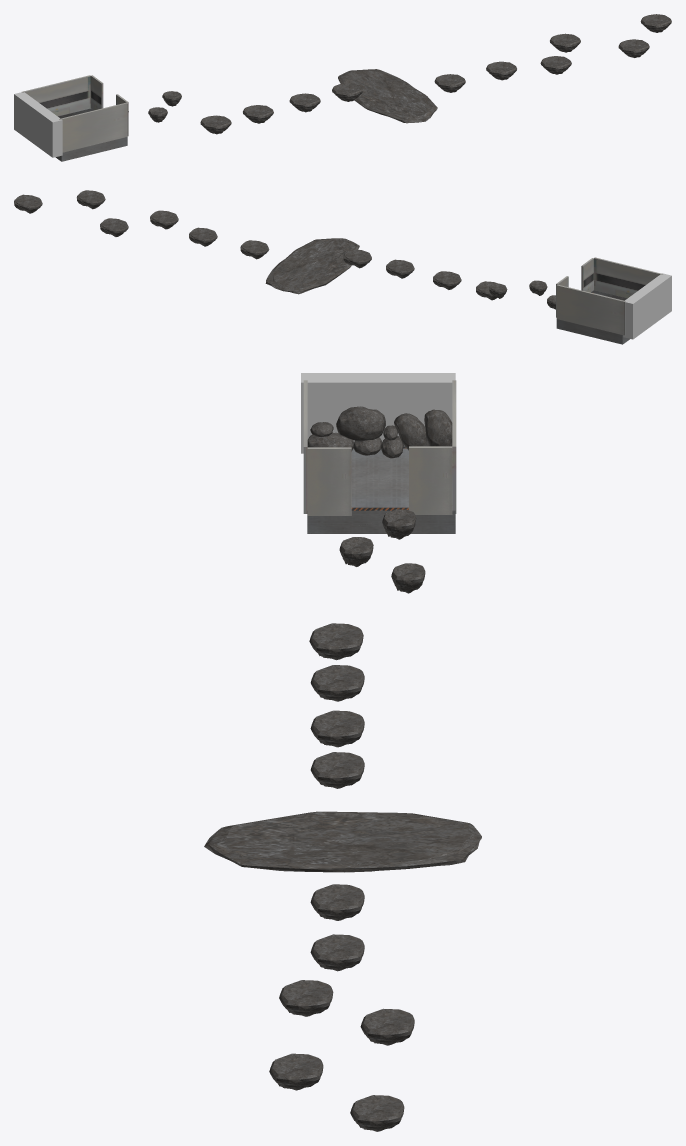
File: 3d plat.fbx
The picture shows the model from 3 angles, top to bottom: view 1: azimuth 30°, elevation 25°; view 2: azimuth 150°, elevation 25°; view 3: azimuth 270°, elevation 25°; orthographic projection. The views are drawn at different scales.
Parts seen in each view (by area): view 1: pasted__polySurface35, pCube15, pCube11, pCube16, pCube10, pasted__polySurface36, pasted__polySurface41, pasted__polySurface31, pasted__polySurface33, pasted__polySurface34, pasted__polySurface37, pasted__polySurface40 (+4 smaller); view 2: pasted__polySurface35, pCube16, pCube11, pCube15, pCube10, pasted__polySurface36, pasted__polySurface40, pasted__polySurface34, pasted__polySurface39, pasted__polySurface38, pasted__polySurface32, pasted__polySurface33 (+4 smaller); view 3: pasted__polySurface35, pCube11, pCube10, pCube17, pCube18, pasted__polySurface34, pasted__polySurface40, pasted__polySurface36, pasted__polySurface37, pasted__polySurface31, pasted__polySurface32, pasted__polySurface33 (+4 smaller).
Boxes of the visible parts, x1=… form: pasted__polySurface35: x1=338, y1=69, x2=437, y2=123; pCube15: x1=59, y1=102, x2=128, y2=152; pCube11: x1=14, y1=92, x2=62, y2=157; pCube16: x1=22, y1=75, x2=90, y2=115; pCube10: x1=55, y1=108, x2=127, y2=161; pasted__polySurface36: x1=434, y1=74, x2=465, y2=92; pasted__polySurface41: x1=640, y1=14, x2=671, y2=32; pasted__polySurface31: x1=200, y1=115, x2=231, y2=134; pasted__polySurface33: x1=289, y1=93, x2=320, y2=112; pasted__polySurface34: x1=332, y1=83, x2=362, y2=101; pasted__polySurface37: x1=486, y1=61, x2=516, y2=80; pasted__polySurface40: x1=618, y1=39, x2=649, y2=57; pasted__polySurface35: x1=265, y1=238, x2=359, y2=294; pCube16: x1=556, y1=284, x2=625, y2=335; pCube11: x1=623, y1=273, x2=671, y2=339; pCube15: x1=594, y1=257, x2=662, y2=298; pCube10: x1=556, y1=290, x2=629, y2=344; pasted__polySurface36: x1=240, y1=240, x2=269, y2=259; pasted__polySurface40: x1=76, y1=190, x2=105, y2=209; pasted__polySurface34: x1=343, y1=249, x2=371, y2=268; pasted__polySurface39: x1=100, y1=218, x2=128, y2=236; pasted__polySurface38: x1=150, y1=210, x2=178, y2=229; pasted__polySurface32: x1=433, y1=271, x2=461, y2=289; pasted__polySurface33: x1=386, y1=259, x2=414, y2=278; pasted__polySurface35: x1=204, y1=811, x2=481, y2=872; pCube11: x1=301, y1=373, x2=455, y2=453; pCube10: x1=307, y1=446, x2=455, y2=533; pCube17: x1=307, y1=447, x2=351, y2=515; pCube18: x1=409, y1=446, x2=452, y2=514; pasted__polySurface34: x1=310, y1=752, x2=364, y2=788; pasted__polySurface40: x1=269, y1=1053, x2=323, y2=1090; pasted__polySurface36: x1=310, y1=884, x2=364, y2=920; pasted__polySurface37: x1=310, y1=934, x2=364, y2=971; pasted__polySurface31: x1=309, y1=623, x2=363, y2=660; pasted__polySurface32: x1=310, y1=665, x2=364, y2=701; pasted__polySurface33: x1=310, y1=710, x2=364, y2=747.
Bounding box in the file's own units: 12352 × 1381 × 2338.
